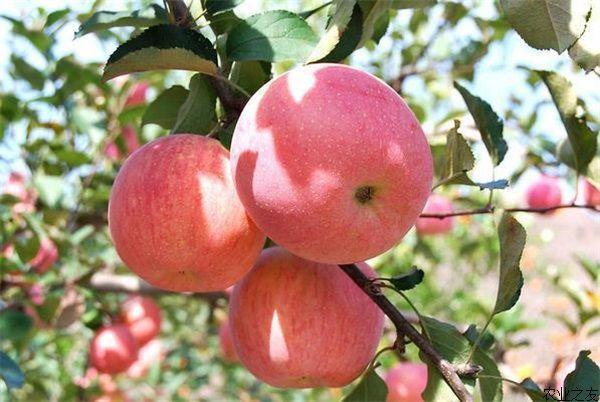apple: (232, 64, 434, 265), (103, 133, 261, 295), (222, 249, 382, 386)
